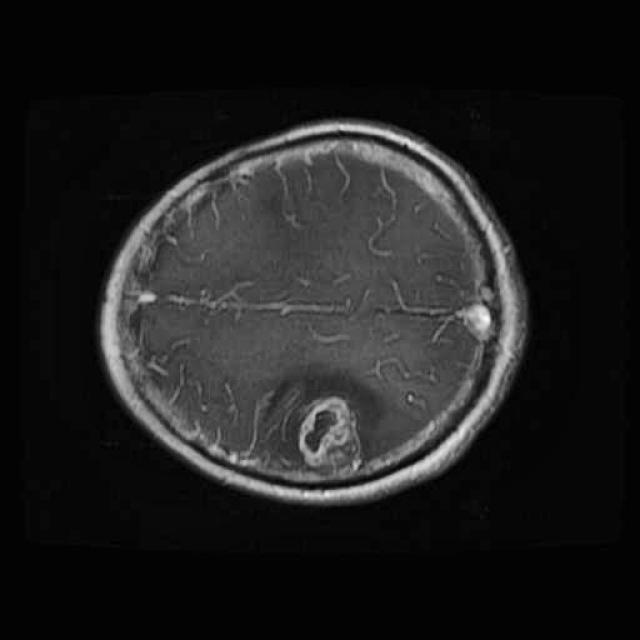Non-Tumor: (289, 389, 370, 488)
